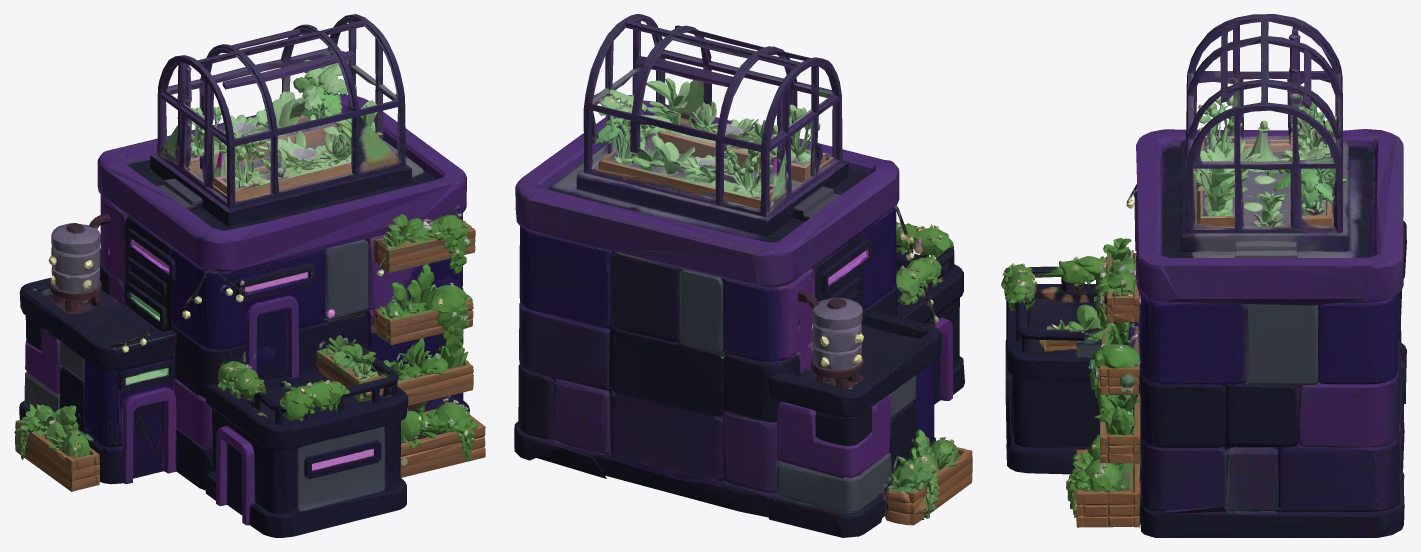
Rendered from rooftop-garden.glb.
3 renders of one model, left to right at view 1: azimuth 30°, elevation 25°; view 2: azimuth 150°, elevation 25°; view 3: azimuth 270°, elevation 25°, orthographic. The views are drawn at different scales.
Parts seen in each view (by area): view 1: output_unwrapped; view 2: output_unwrapped; view 3: output_unwrapped.
Part boxes in pixels (<box>): output_unwrapped: <box>14,14,485,537</box>; output_unwrapped: <box>514,14,972,537</box>; output_unwrapped: <box>1001,14,1406,537</box>.
Bounding box in the file's own units: 1.9 × 1.84 × 1.66.
1 material, 1 textured.
